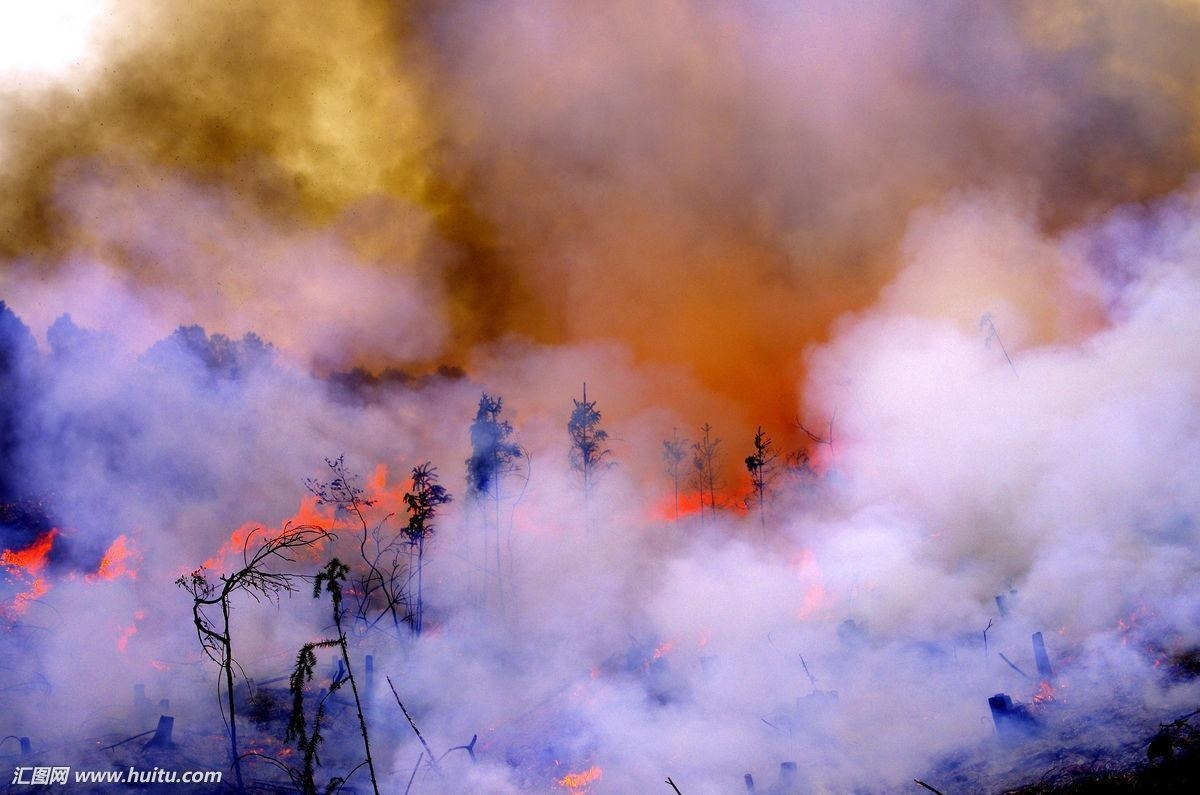fire: (1023, 657, 1068, 709), (557, 760, 604, 793)
